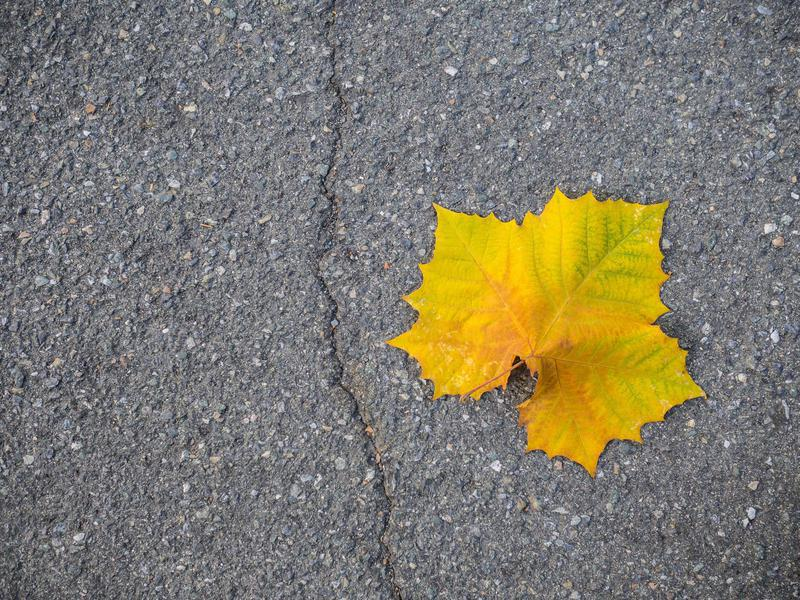leaf: (380, 175, 717, 485)
